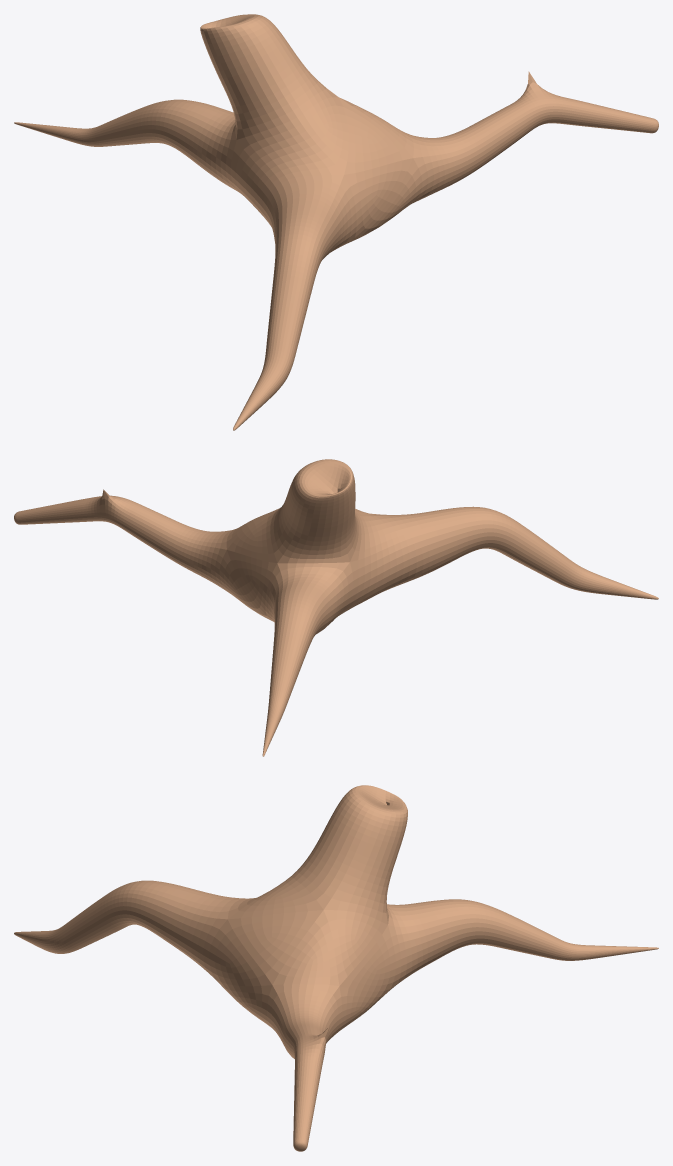
Rendered from tree-cut new.fbx.
3 renders of one model, top to bottom at view 1: azimuth 30°, elevation 25°; view 2: azimuth 150°, elevation 25°; view 3: azimuth 270°, elevation 25°, orthographic. The views are drawn at different scales.
Parts seen in each view (by area): view 1: Cube; view 2: Cube; view 3: Cube.
Boxes of the visible parts, left/top/right/bottom form: Cube: left=14, top=14, right=658, bottom=430; Cube: left=14, top=459, right=658, bottom=756; Cube: left=14, top=785, right=658, bottom=1151.
Bounding box in the file's own units: 223 × 88.07 × 223.
